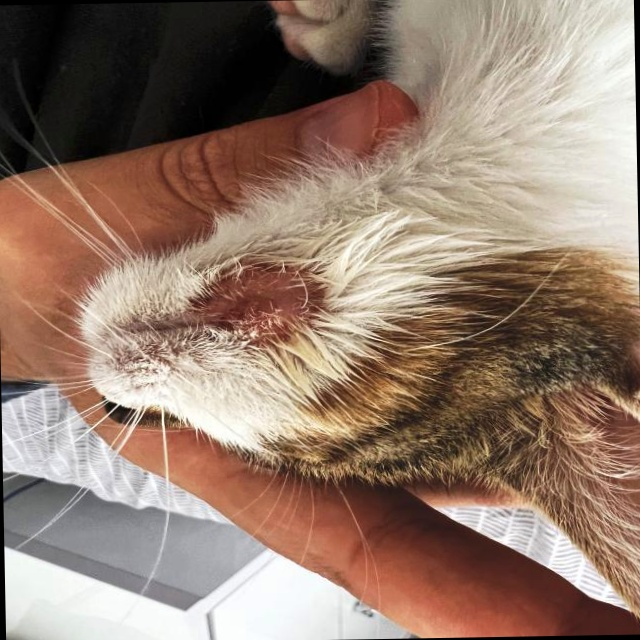ringworm: (208, 258, 337, 344)
